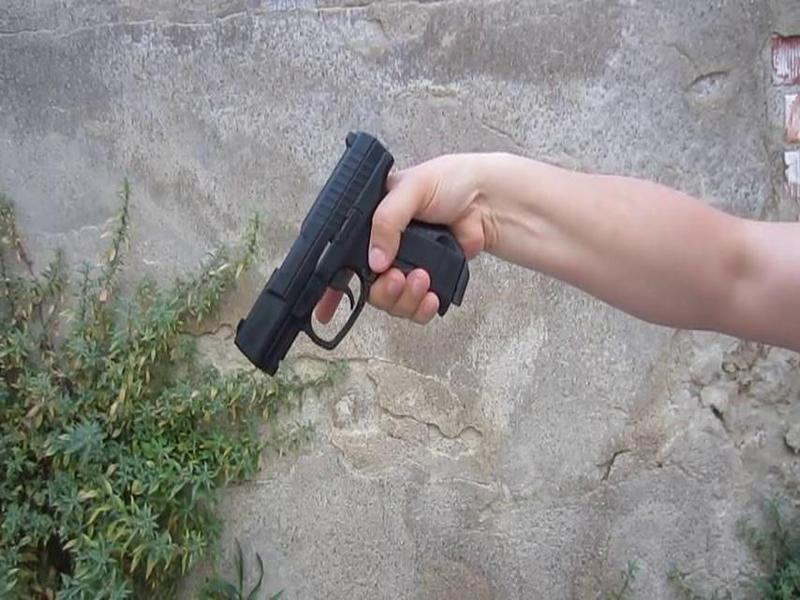Pistola: (221, 128, 482, 374)
